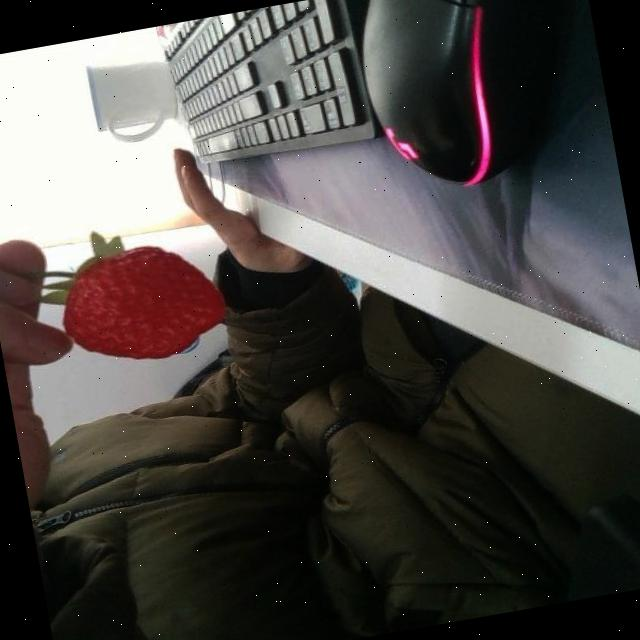strawberry: (50, 231, 232, 373)
